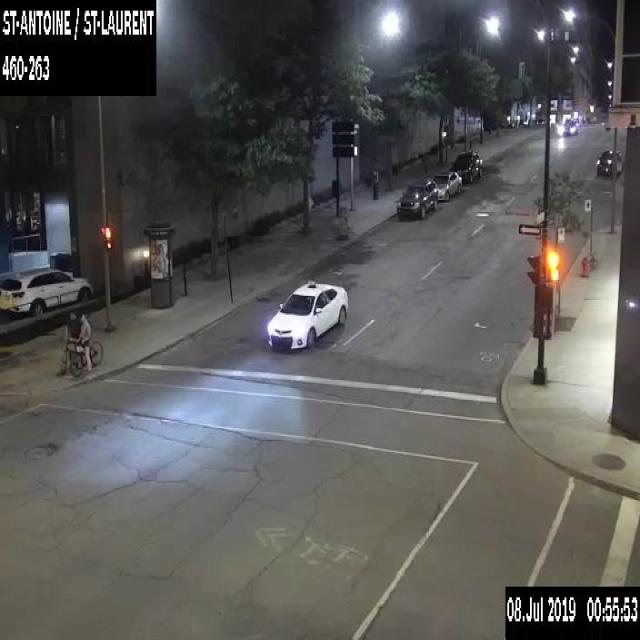cyclist: (70, 313, 102, 375), (56, 311, 80, 373)
vehicle: (266, 279, 348, 353), (0, 268, 93, 316), (396, 177, 438, 220), (450, 149, 483, 182), (432, 170, 462, 202), (596, 147, 623, 175), (560, 117, 578, 134)
